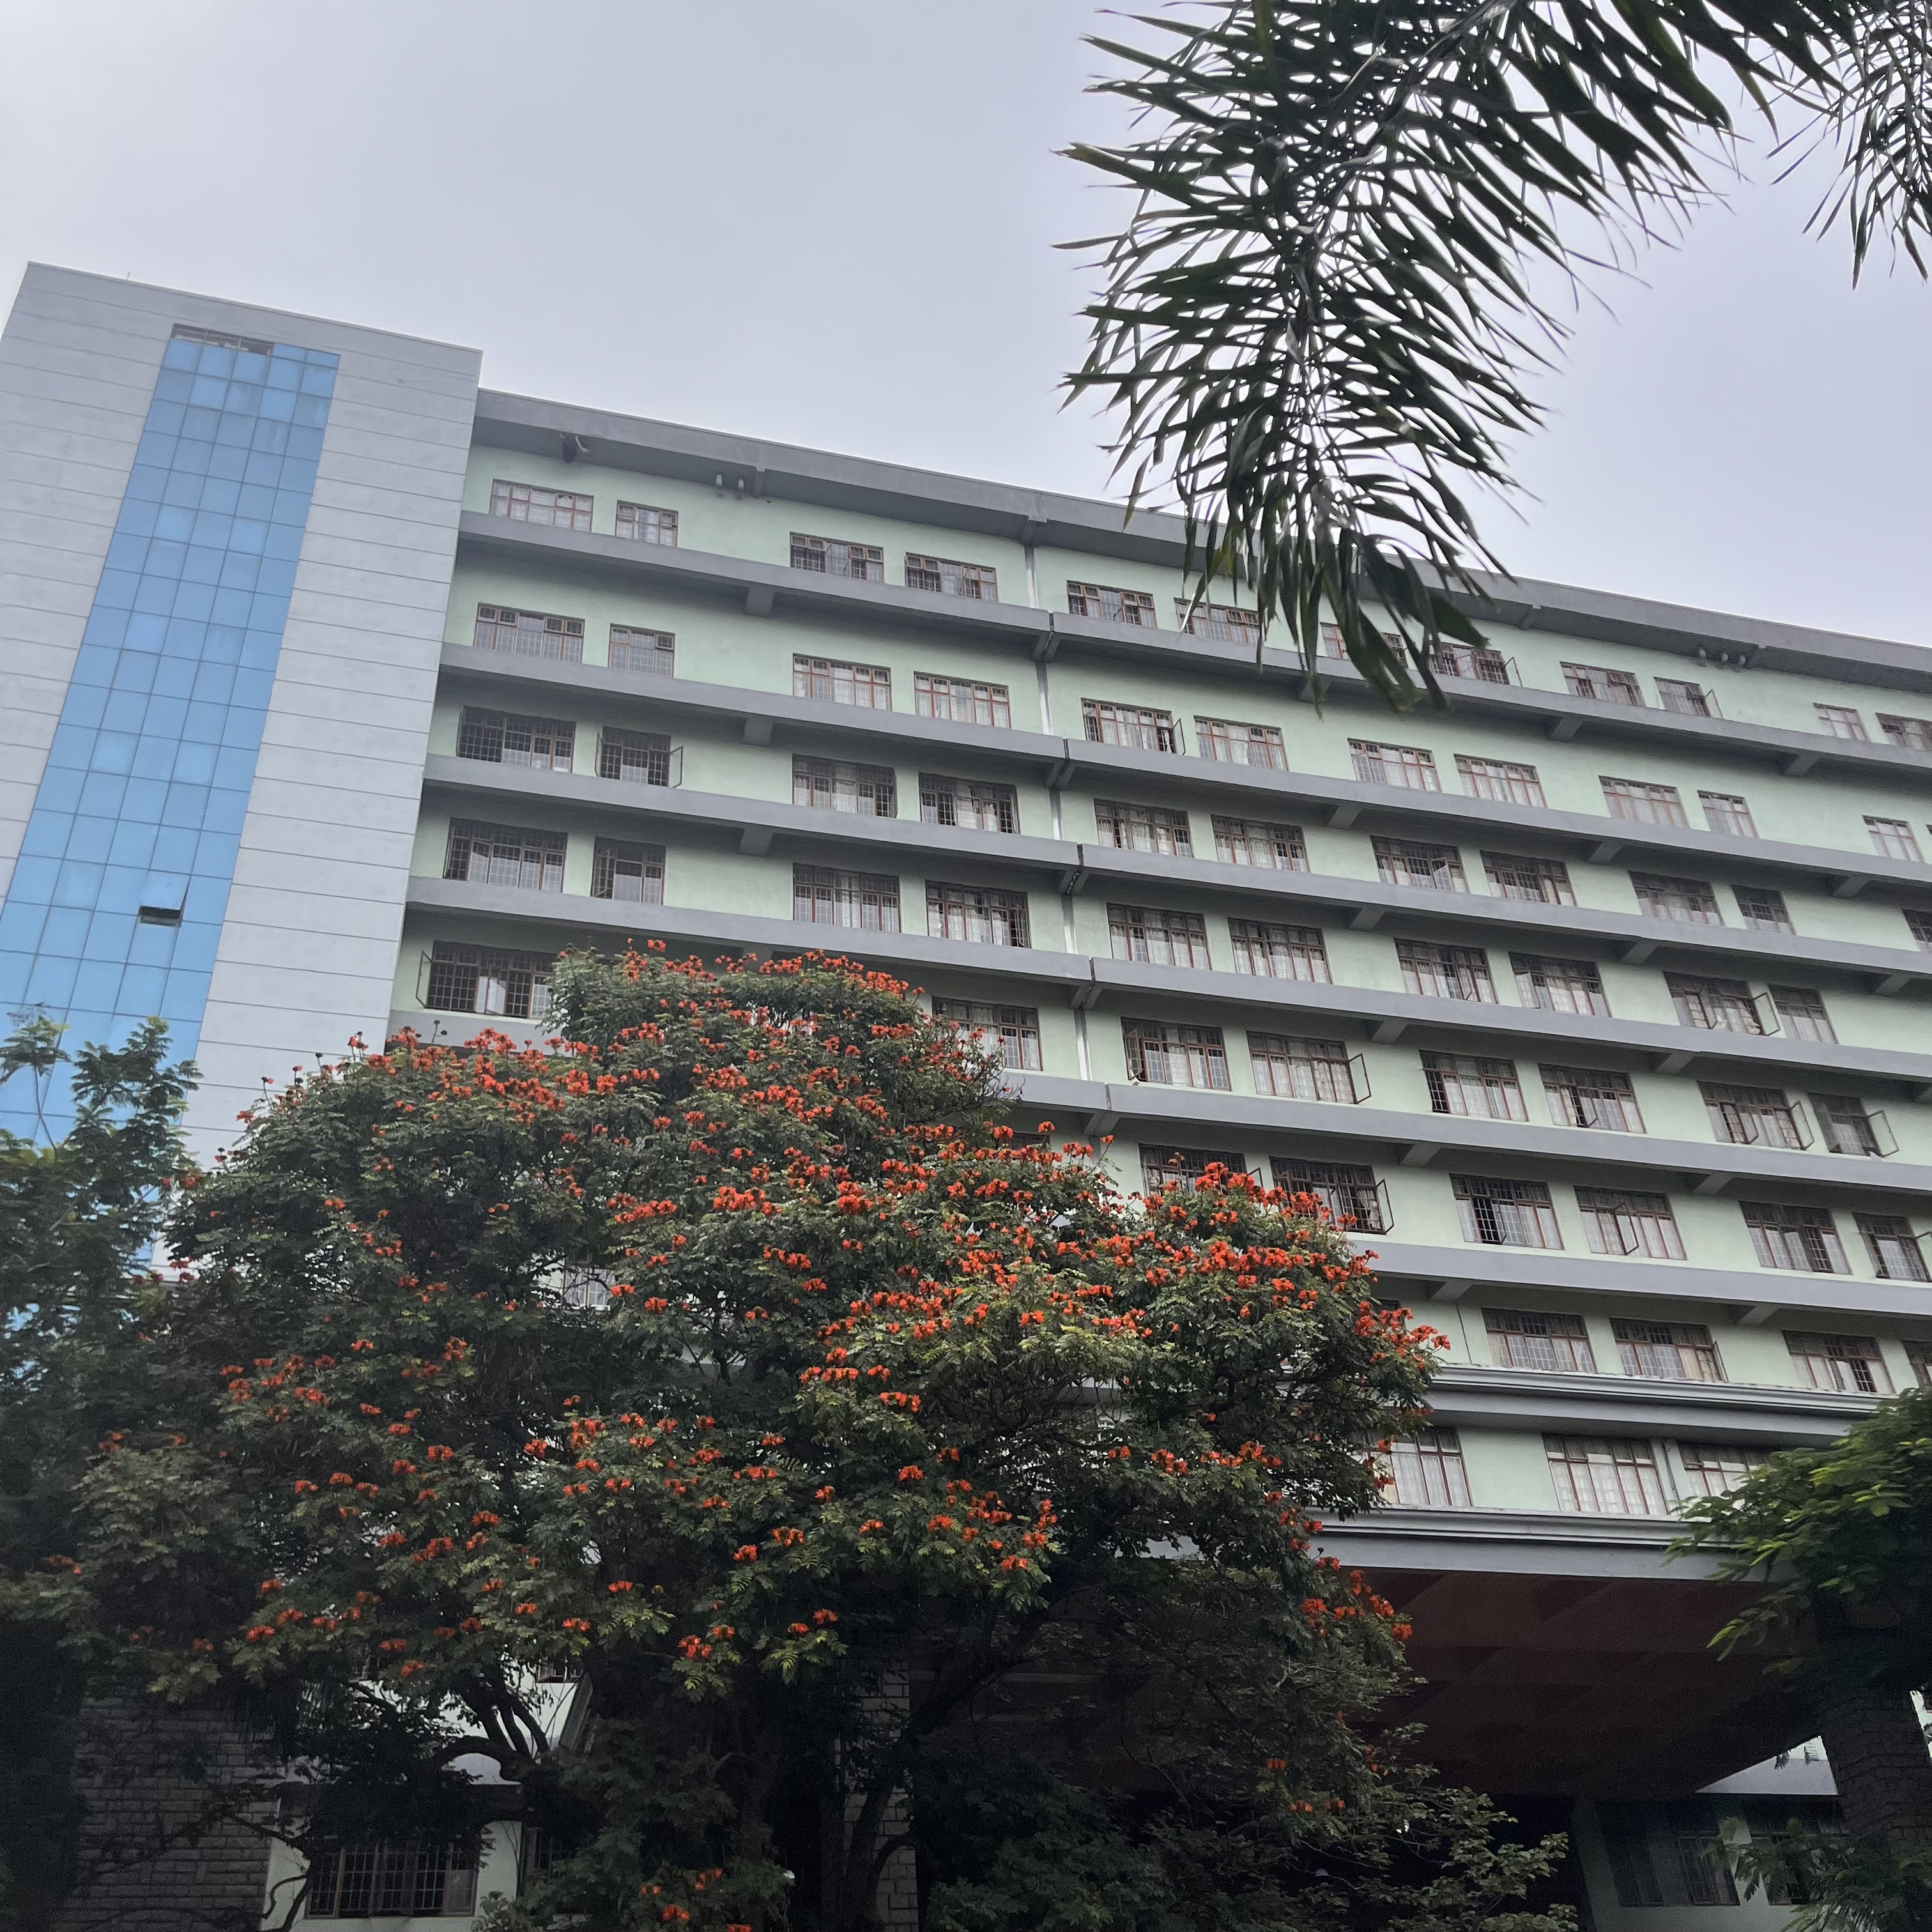Central Block: (1, 206, 1932, 1617)
